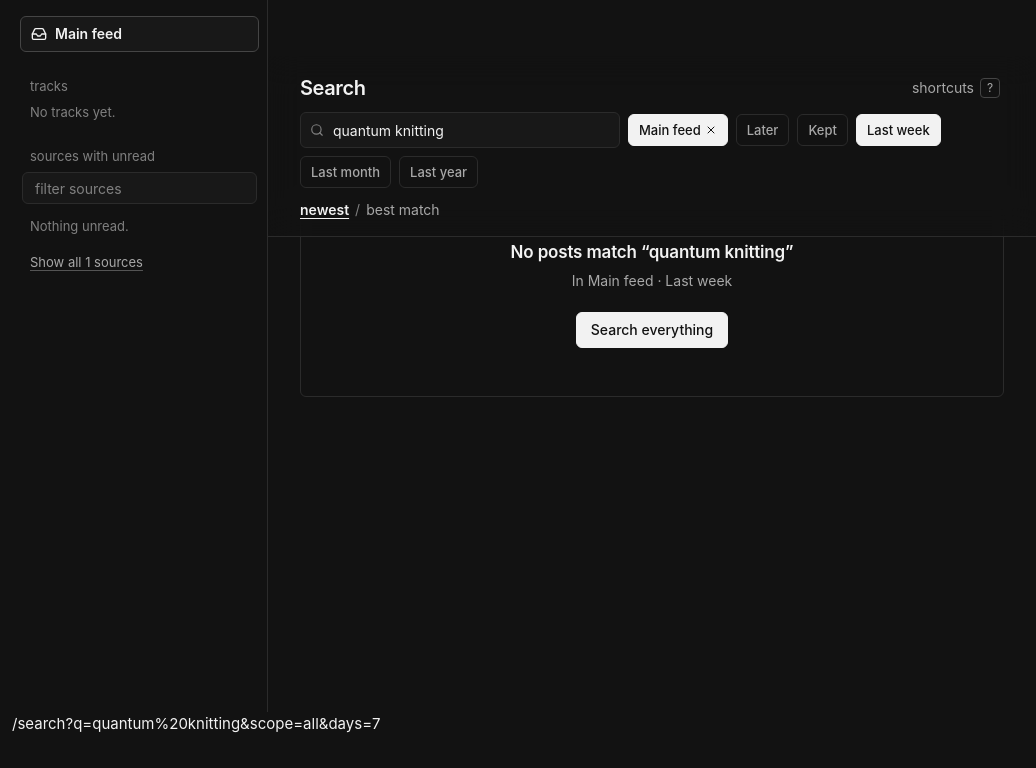
search (issue 0040) › empty: says no post matches, names the chips and offers Search everything
Expected: the text "No posts match “quantum knitting”" is shown, [511,242,793,262]
Expected: the text "In Main feed · Last week" is shown, [572,272,732,289]
Click the button "Search everything" at point(652, 330), box [576,312,728,348]
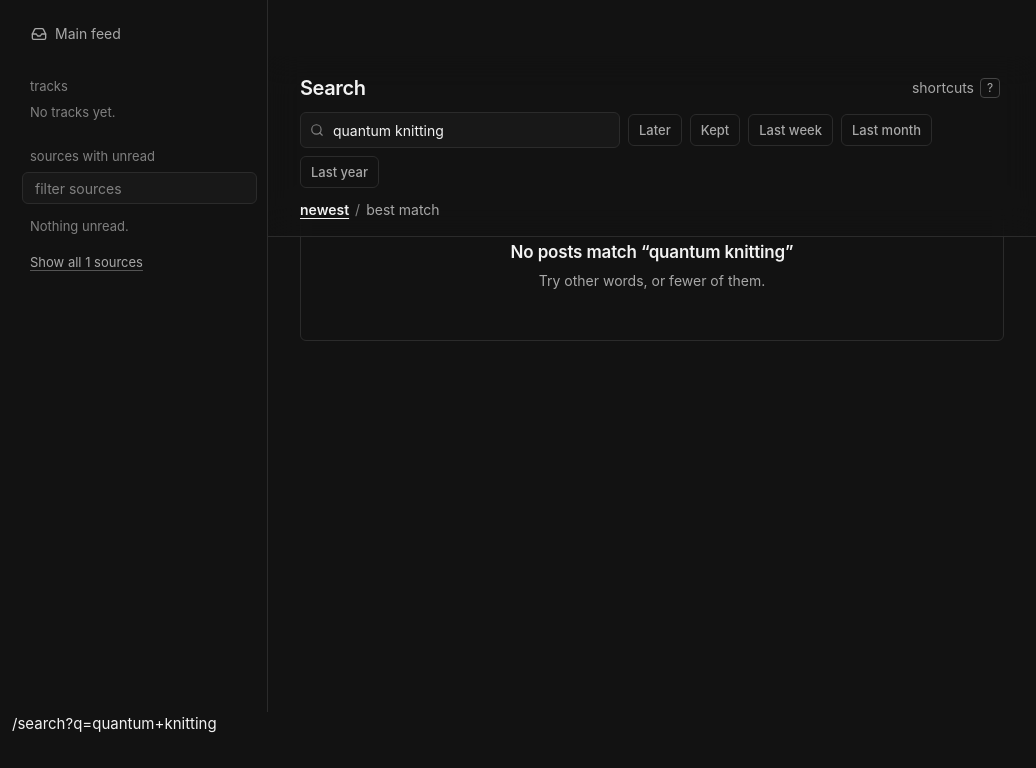
Expected: the text with test id "where" reads "/search?q=quantum+knitting", [12,714,217,733]
Expected: the button "Search everything" is gone
Expected: the text "Try other words, or fewer of them." is shown, [539,272,765,289]
